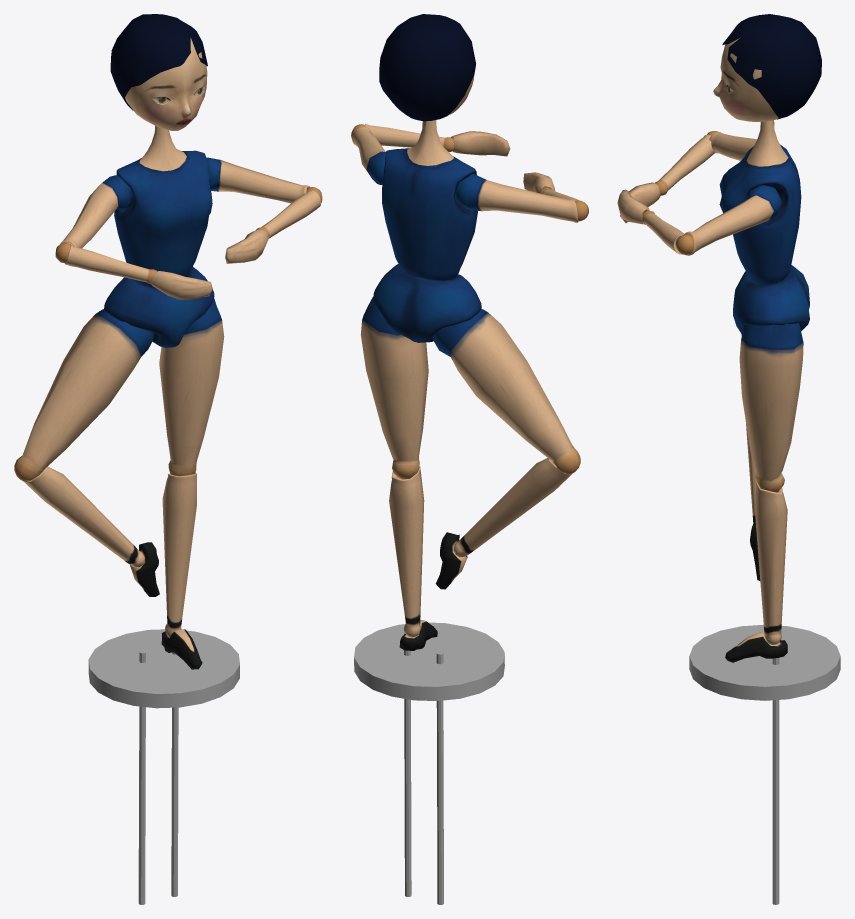
File: dancer_no_tex.fbx
3 views of the same model, side by side, from view 1: azimuth 30°, elevation 25°; view 2: azimuth 150°, elevation 25°; view 3: azimuth 270°, elevation 25° (orthographic).
Visible parts, largest first — view 1: torso_GEO, r_thigh_GEO, base_GEO, l_thigh_GEO, head_GEO2, hip_GEO, l_leg_GEO, head_GEO, r_leg_GEO, l_upperarm_GEO, r_upperArm_GEO, r_arm_GEO (+7 smaller); view 2: torso_GEO, r_thigh_GEO, base_GEO, head_GEO2, l_thigh_GEO, hip_GEO, l_leg_GEO, r_leg_GEO, r_upperArm_GEO, r_support_GEO, l_support_GEO, l_hand_GEO (+5 smaller); view 3: l_thigh_GEO, base_GEO, torso_GEO, head_GEO2, l_leg_GEO, hip_GEO, l_upperarm_GEO, head_GEO, l_support_GEO, r_arm_GEO, l_foot_GEO, r_upperArm_GEO (+3 smaller).
Part boxes in pixels (box(x1,y1,x2,y2)): torso_GEO: box(114, 126, 212, 288); r_thigh_GEO: box(14, 309, 153, 481); base_GEO: box(88, 629, 239, 708); l_thigh_GEO: box(159, 298, 224, 476); head_GEO2: box(110, 14, 207, 110); hip_GEO: box(104, 267, 214, 347); l_leg_GEO: box(162, 472, 197, 637); head_GEO: box(125, 38, 207, 130); r_leg_GEO: box(22, 466, 144, 566); l_upperarm_GEO: box(206, 157, 310, 203); r_upperArm_GEO: box(59, 175, 134, 248); r_arm_GEO: box(65, 245, 157, 284); torso_GEO: box(382, 120, 477, 280); r_thigh_GEO: box(433, 309, 580, 474); base_GEO: box(354, 622, 504, 700); head_GEO2: box(379, 14, 475, 121); l_thigh_GEO: box(360, 296, 428, 479); hip_GEO: box(373, 264, 481, 342); l_leg_GEO: box(389, 466, 424, 637); r_leg_GEO: box(453, 458, 572, 557); r_upperArm_GEO: box(455, 174, 578, 222); r_support_GEO: box(436, 651, 443, 904); l_support_GEO: box(404, 650, 411, 896); l_hand_GEO: box(451, 131, 510, 156); l_thigh_GEO: box(739, 323, 803, 492); base_GEO: box(689, 625, 840, 700); torso_GEO: box(719, 120, 801, 284); head_GEO2: box(722, 14, 821, 119); l_leg_GEO: box(755, 482, 787, 644); hip_GEO: box(733, 265, 809, 334); l_upperarm_GEO: box(684, 185, 781, 255); head_GEO: box(713, 37, 778, 121); l_support_GEO: box(772, 658, 779, 904); r_arm_GEO: box(655, 135, 714, 195); l_foot_GEO: box(725, 631, 787, 662); r_upperArm_GEO: box(709, 132, 757, 160).
Size of the model in its own units: 2.87 by 9.08 by 2.1.
Materials: 3 (1 with a texture image).
